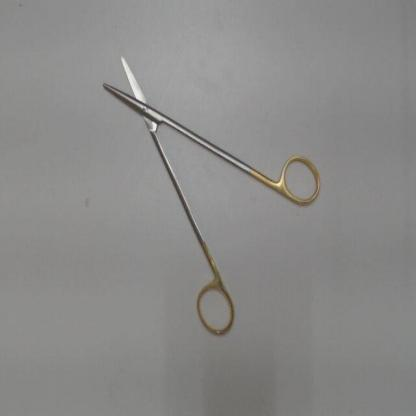7 Metzenbaum Scissors: (98, 46, 324, 342)
